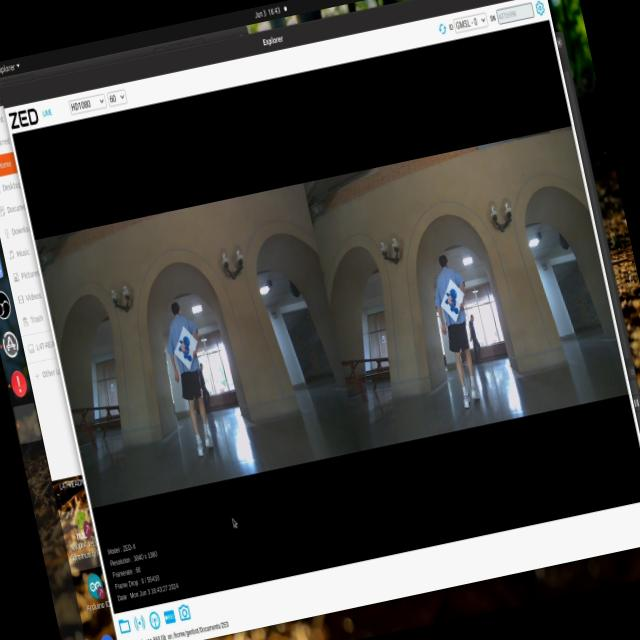blue: (440, 289, 460, 313), (178, 339, 192, 356)
